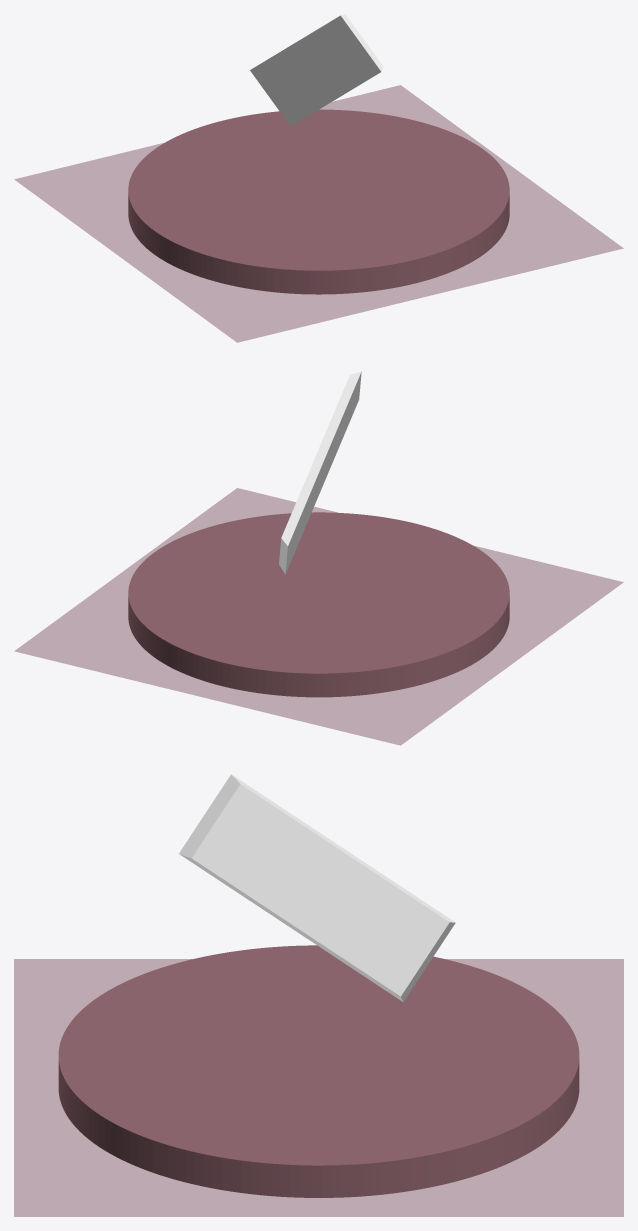
The model's file is modelo.glb.
The picture shows the model from 3 angles, top to bottom: view 1: azimuth 30°, elevation 25°; view 2: azimuth 150°, elevation 25°; view 3: azimuth 270°, elevation 25°; orthographic projection. The views are drawn at different scales.
Visible parts, largest first — view 1: Cylinder, Plane, Cube; view 2: Cylinder, Plane, Cube; view 3: Cylinder, Plane, Cube.
Part boxes in pixels (left/top/right/bottom): Cylinder: left=128, top=109, right=509, bottom=294; Plane: left=14, top=85, right=623, bottom=342; Cube: left=250, top=14, right=383, bottom=126; Cylinder: left=128, top=512, right=509, bottom=697; Plane: left=14, top=488, right=623, bottom=745; Cube: left=279, top=371, right=361, bottom=574; Cylinder: left=58, top=945, right=579, bottom=1197; Plane: left=14, top=959, right=623, bottom=1216; Cube: left=179, top=774, right=455, bottom=1002.
Bounding box in the file's own units: 6.24 × 3.57 × 6.24.
